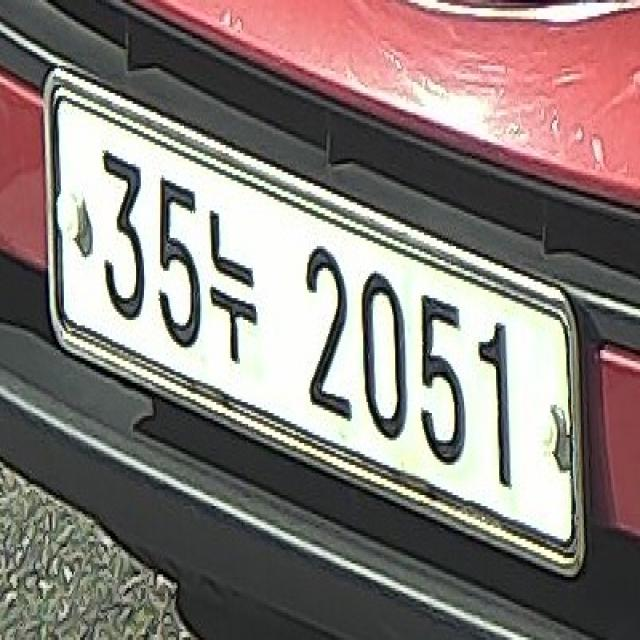0: (358, 262, 412, 438)
1: (478, 317, 512, 495)
2: (304, 243, 354, 424)
3: (101, 142, 147, 326)
5: (152, 175, 205, 353), (416, 287, 467, 468)
license_plate: (45, 68, 582, 577)
nu: (208, 208, 259, 364)
